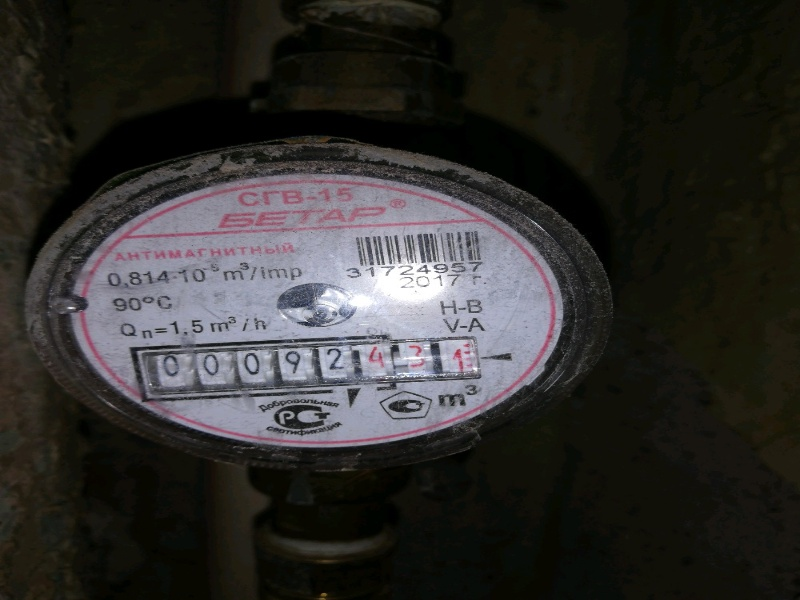meter: (136, 349, 476, 381)
